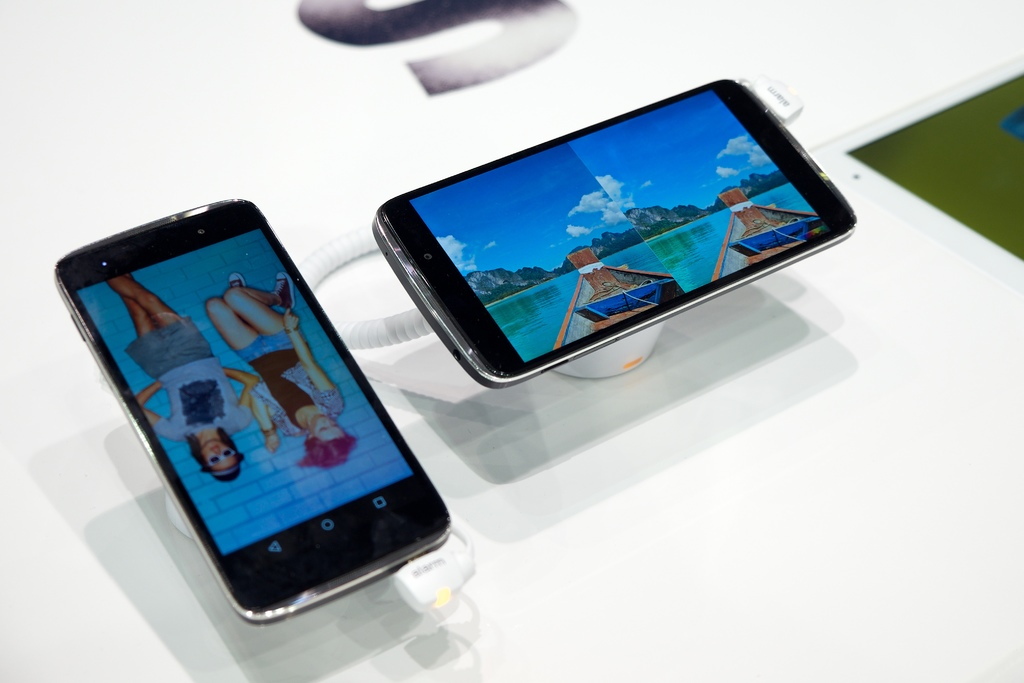Mobile-phone: (47, 188, 455, 619), (371, 73, 863, 388)
